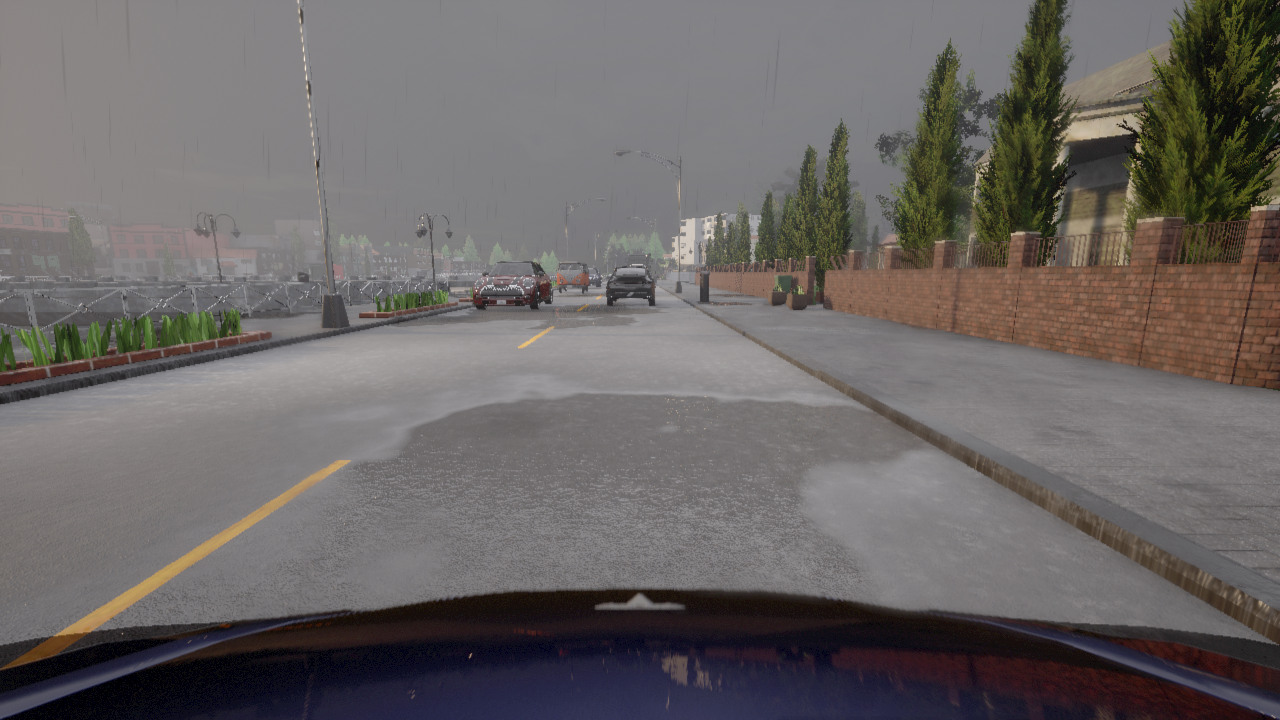cyclist: (0, 588, 1279, 719), (473, 261, 552, 309), (606, 266, 658, 305), (555, 261, 589, 292), (624, 253, 652, 277), (588, 268, 601, 287), (630, 265, 645, 266)
